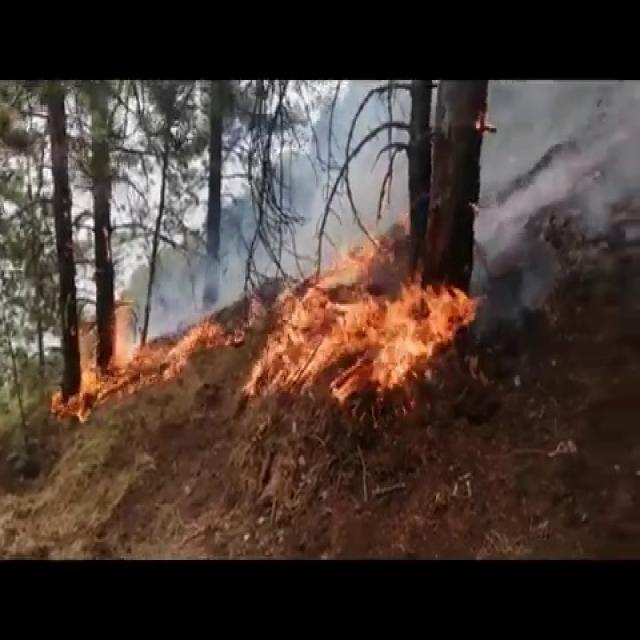Fire: (242, 234, 481, 402), (61, 290, 207, 416)
Smoke: (476, 80, 640, 260)
